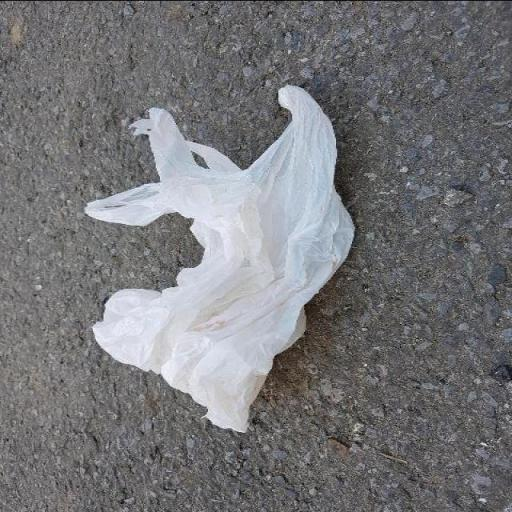plastic-bag: (84, 78, 364, 434)
